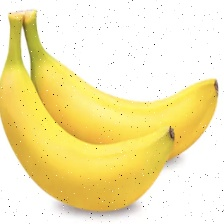banana: (38, 33, 203, 183)
